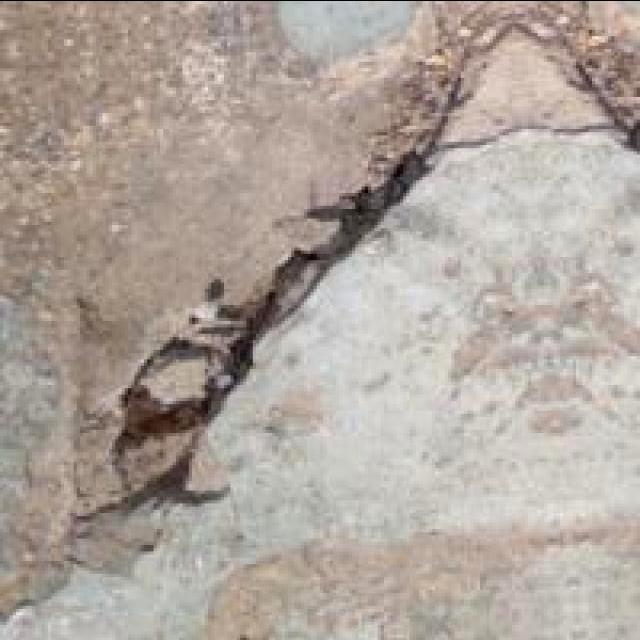SurfaceCrack: (82, 98, 432, 548)
